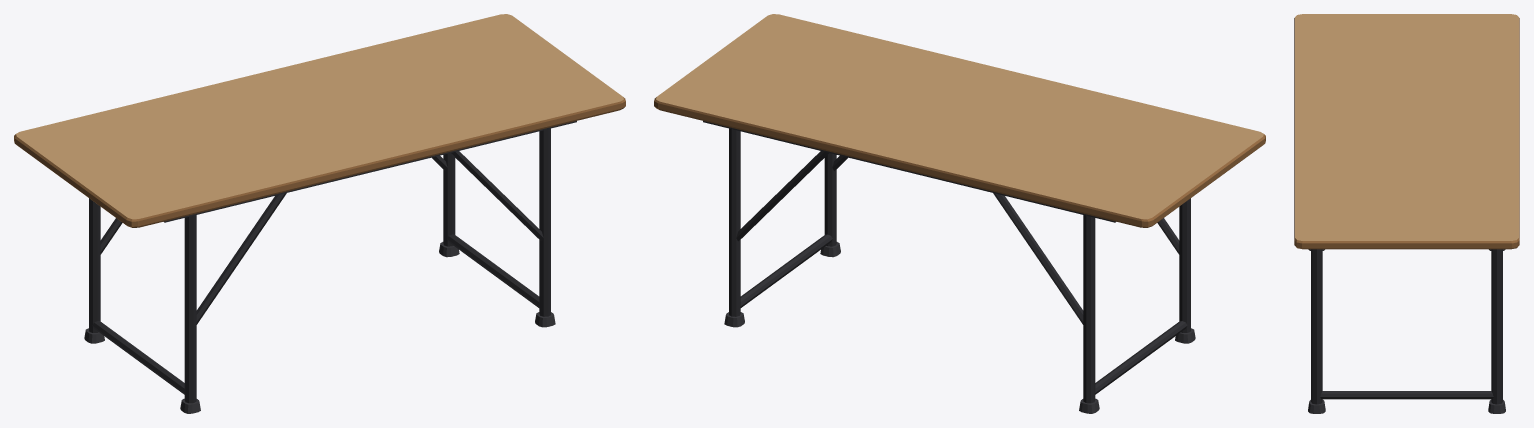
Rendered from FN_Table_Folding.obj.
3 renders of one model, left to right at view 1: azimuth 30°, elevation 25°; view 2: azimuth 150°, elevation 25°; view 3: azimuth 270°, elevation 25°, orthographic. The views are drawn at different scales.
Parts seen in each view (by area): view 1: FN_Table_Folding; view 2: FN_Table_Folding; view 3: FN_Table_Folding.
Boxes of the visible parts, x1,y1,x2,y2 form: FN_Table_Folding: (14,14,625,413); FN_Table_Folding: (654,14,1265,413); FN_Table_Folding: (1294,14,1519,413).
Bounding box in the file's own units: 1.8 × 0.74 × 0.75.
1 material, 1 textured.
